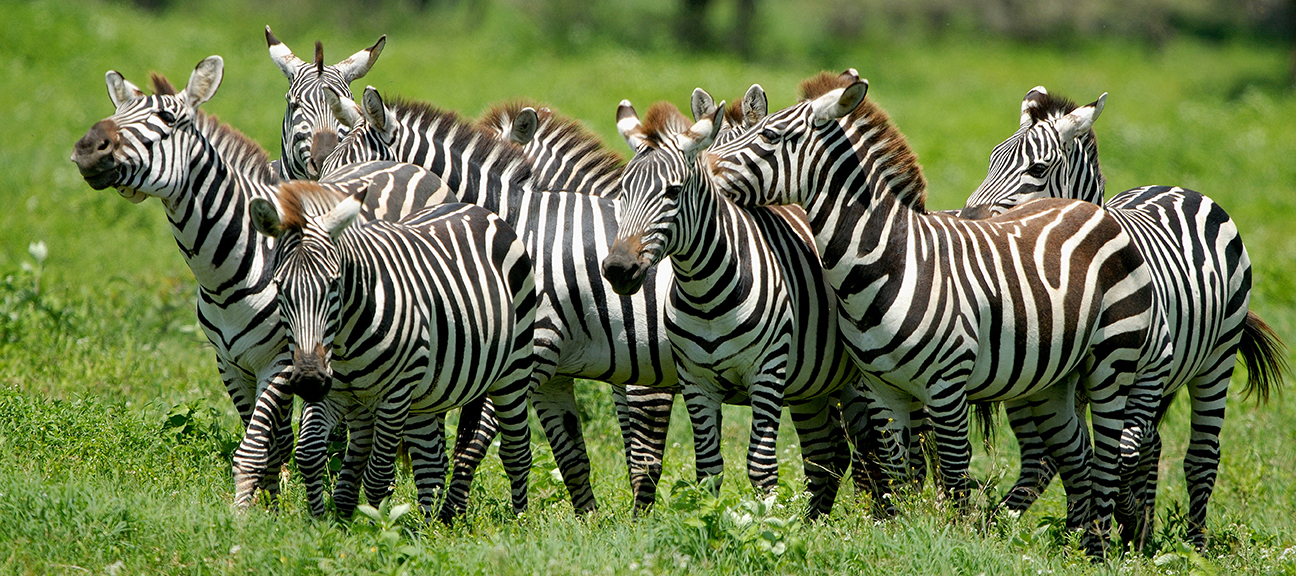zebra: (710, 105, 1157, 565), (282, 101, 741, 505), (951, 87, 1270, 546), (600, 89, 890, 532), (65, 52, 339, 518), (257, 183, 549, 516), (272, 32, 394, 277)
